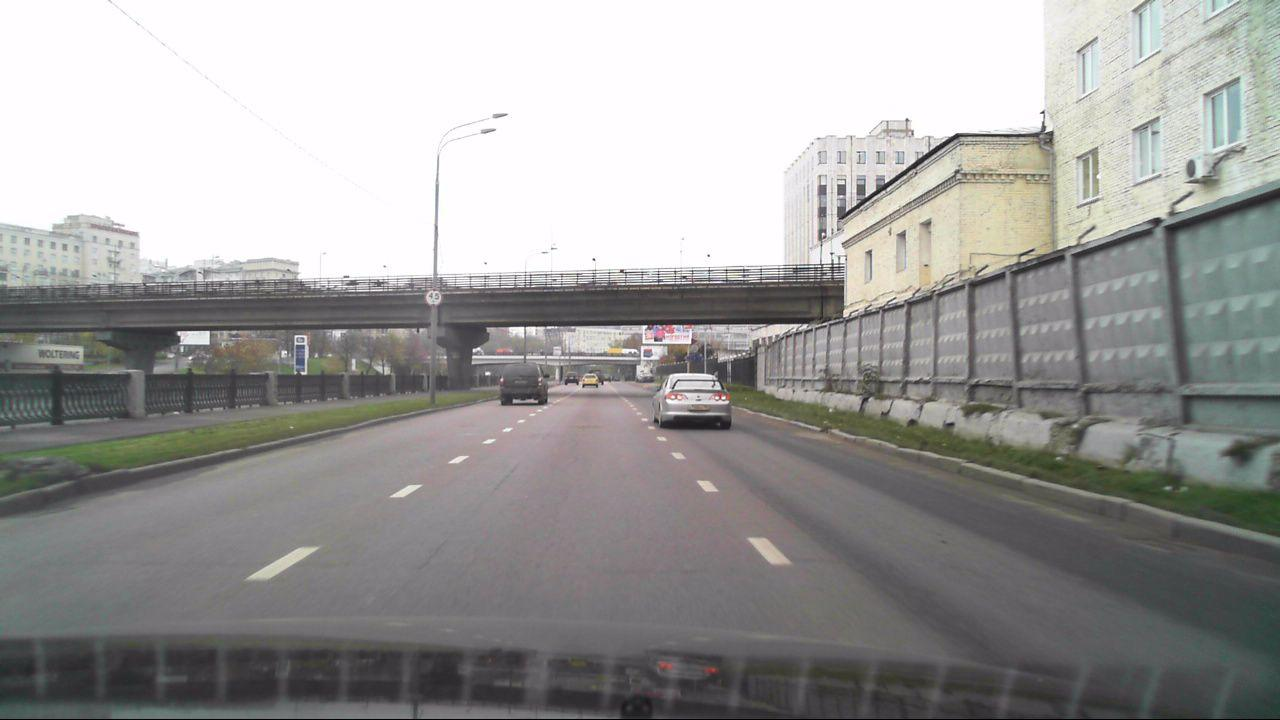road_sign: (424, 286, 443, 307)
